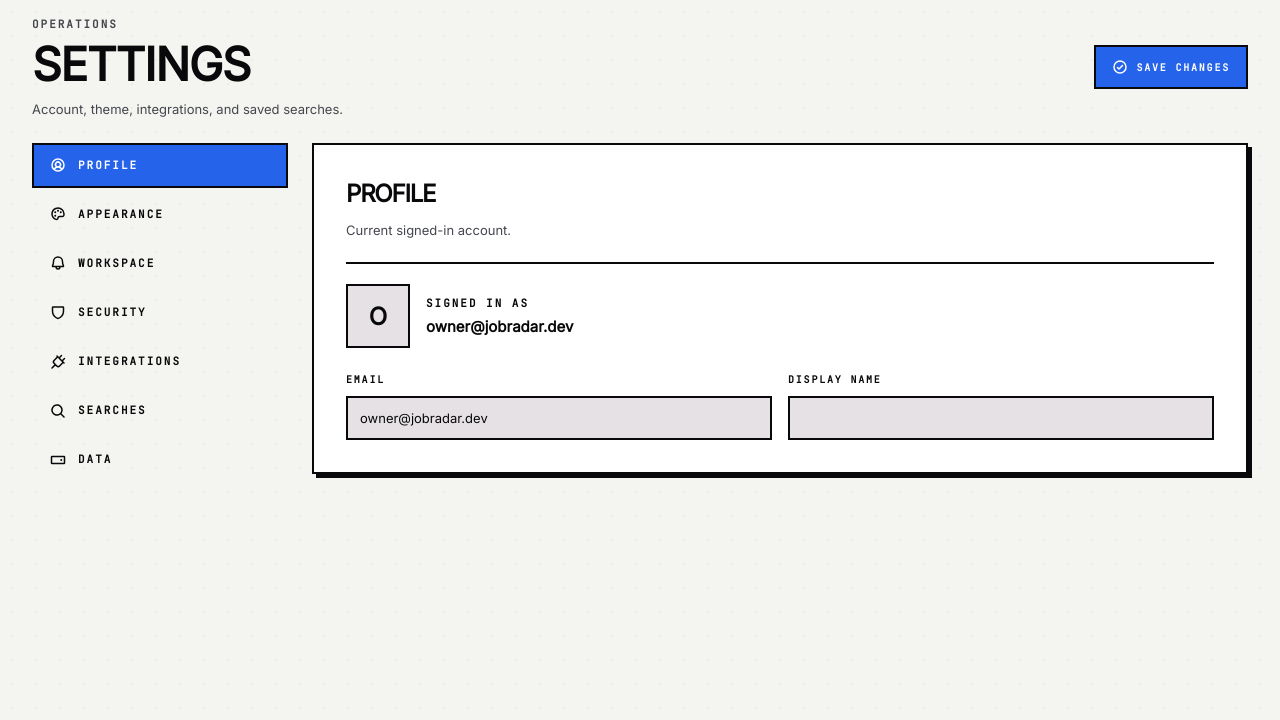
Test: Settings page › hides Google sync and disconnect actions until Google is configured
Click the button "Integrations": coordinates (160, 362) [32,339,288,384]
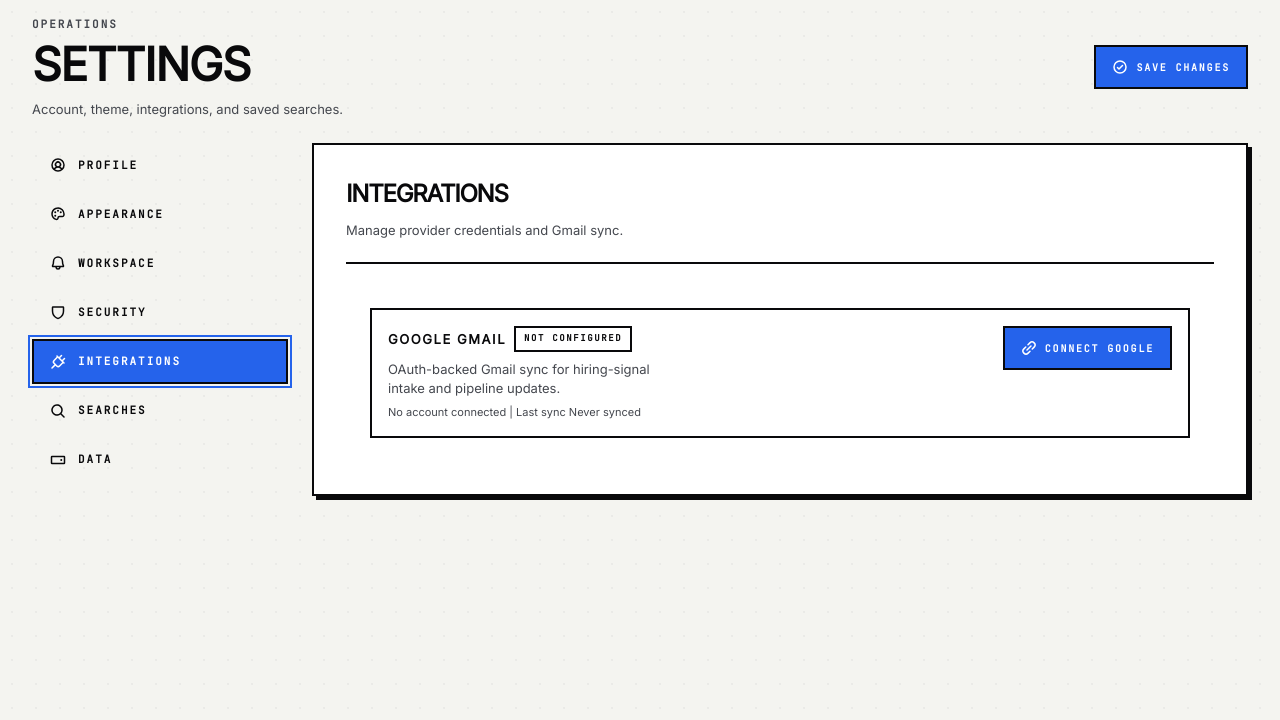
Expected: the heading "Google Gmail" is shown, [388,330,506,349]
Expected: the button "Connect Google" is shown, [1003,326,1172,370]
